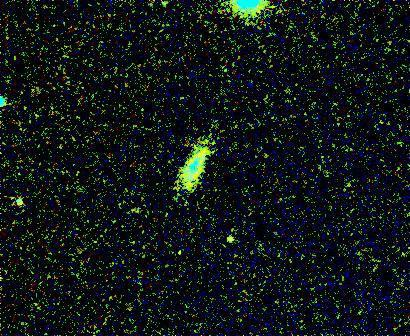star: (216, 224, 246, 254)
